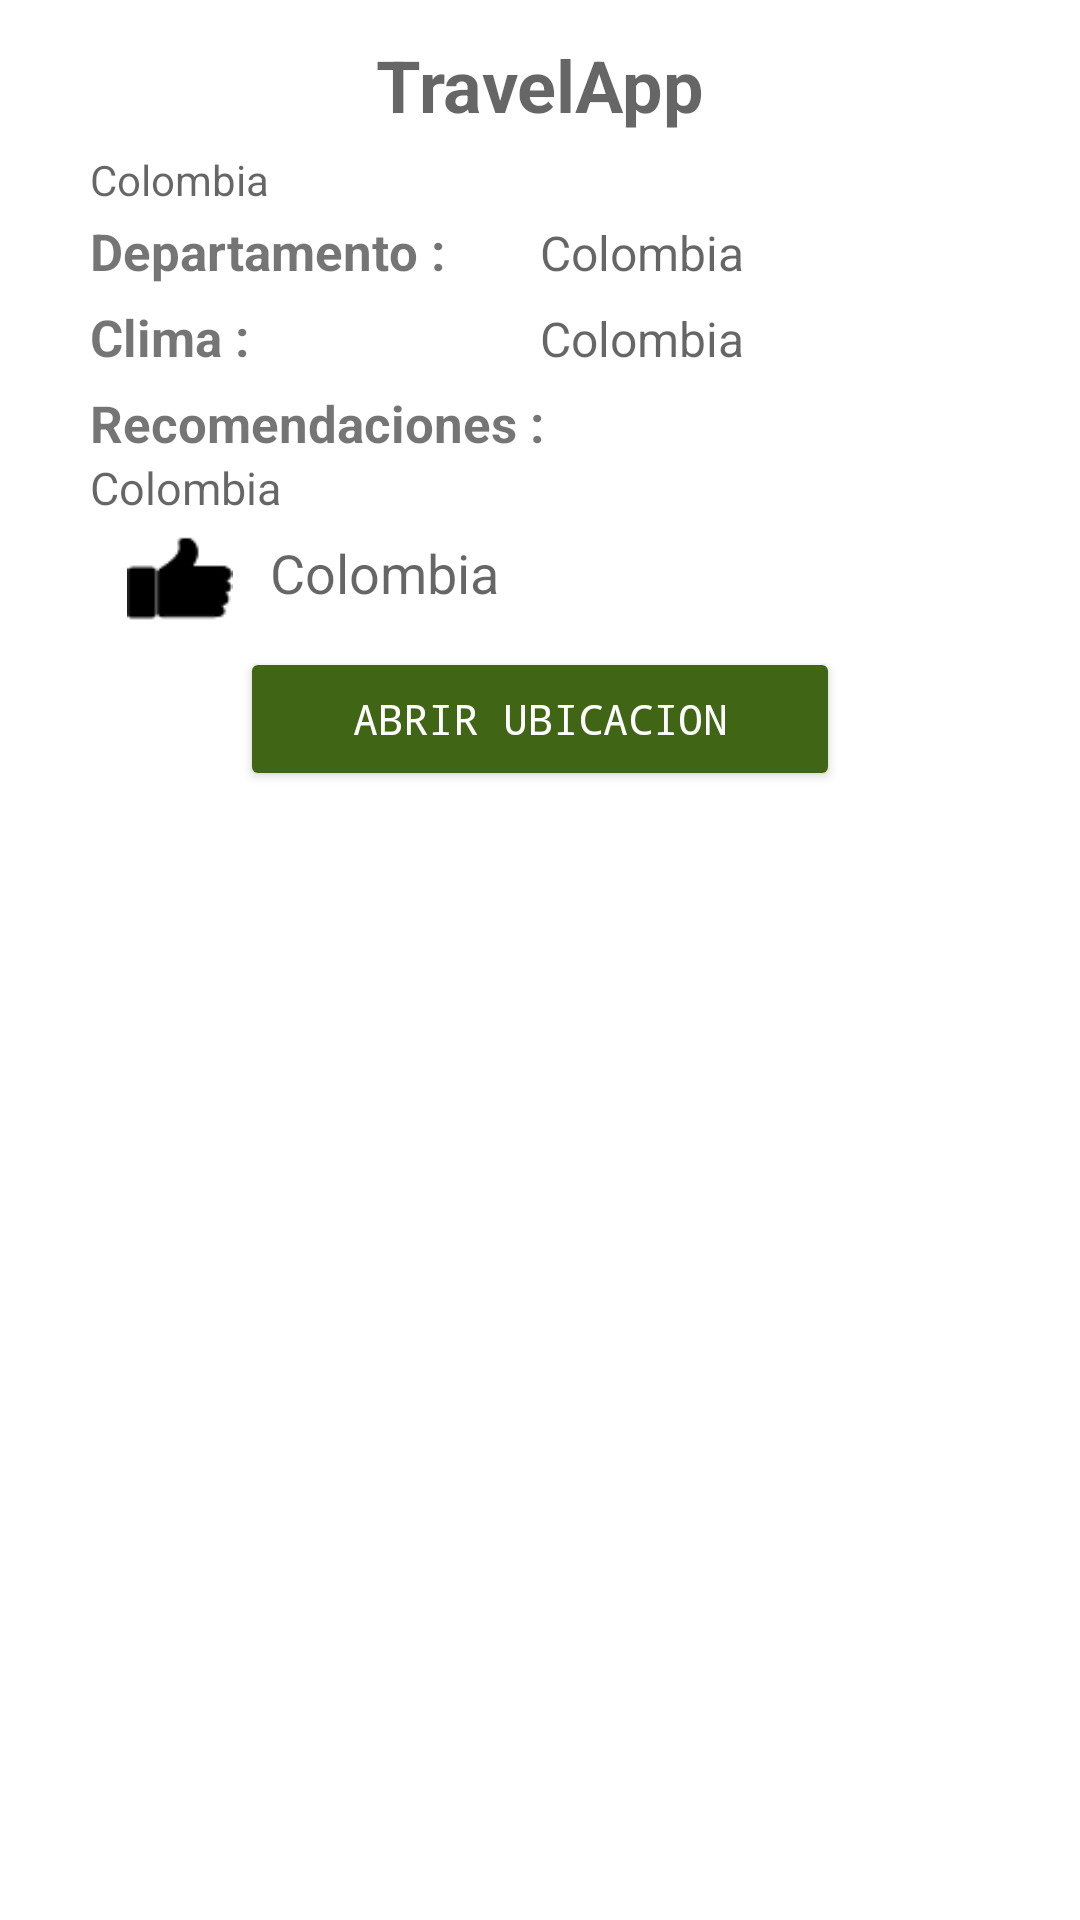

Point at icon controls on the screen. Image size 1080 × 1920, points as point (x, y).
like: point (180, 578)
